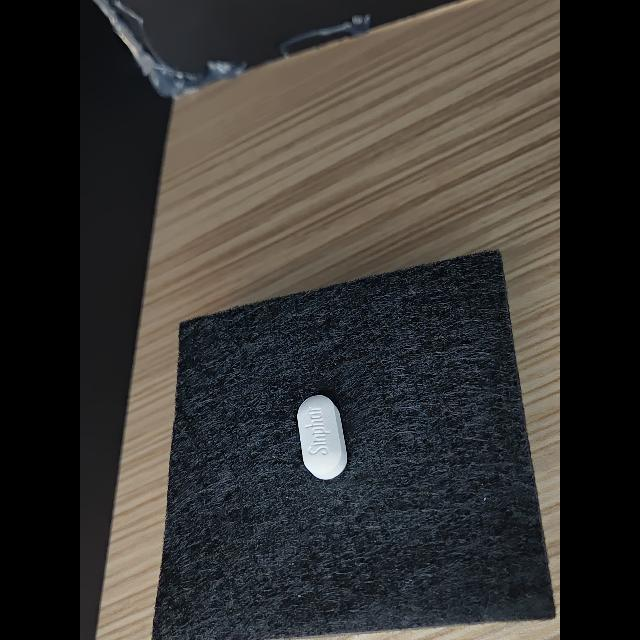Intact Pill: (297, 395, 347, 480)
